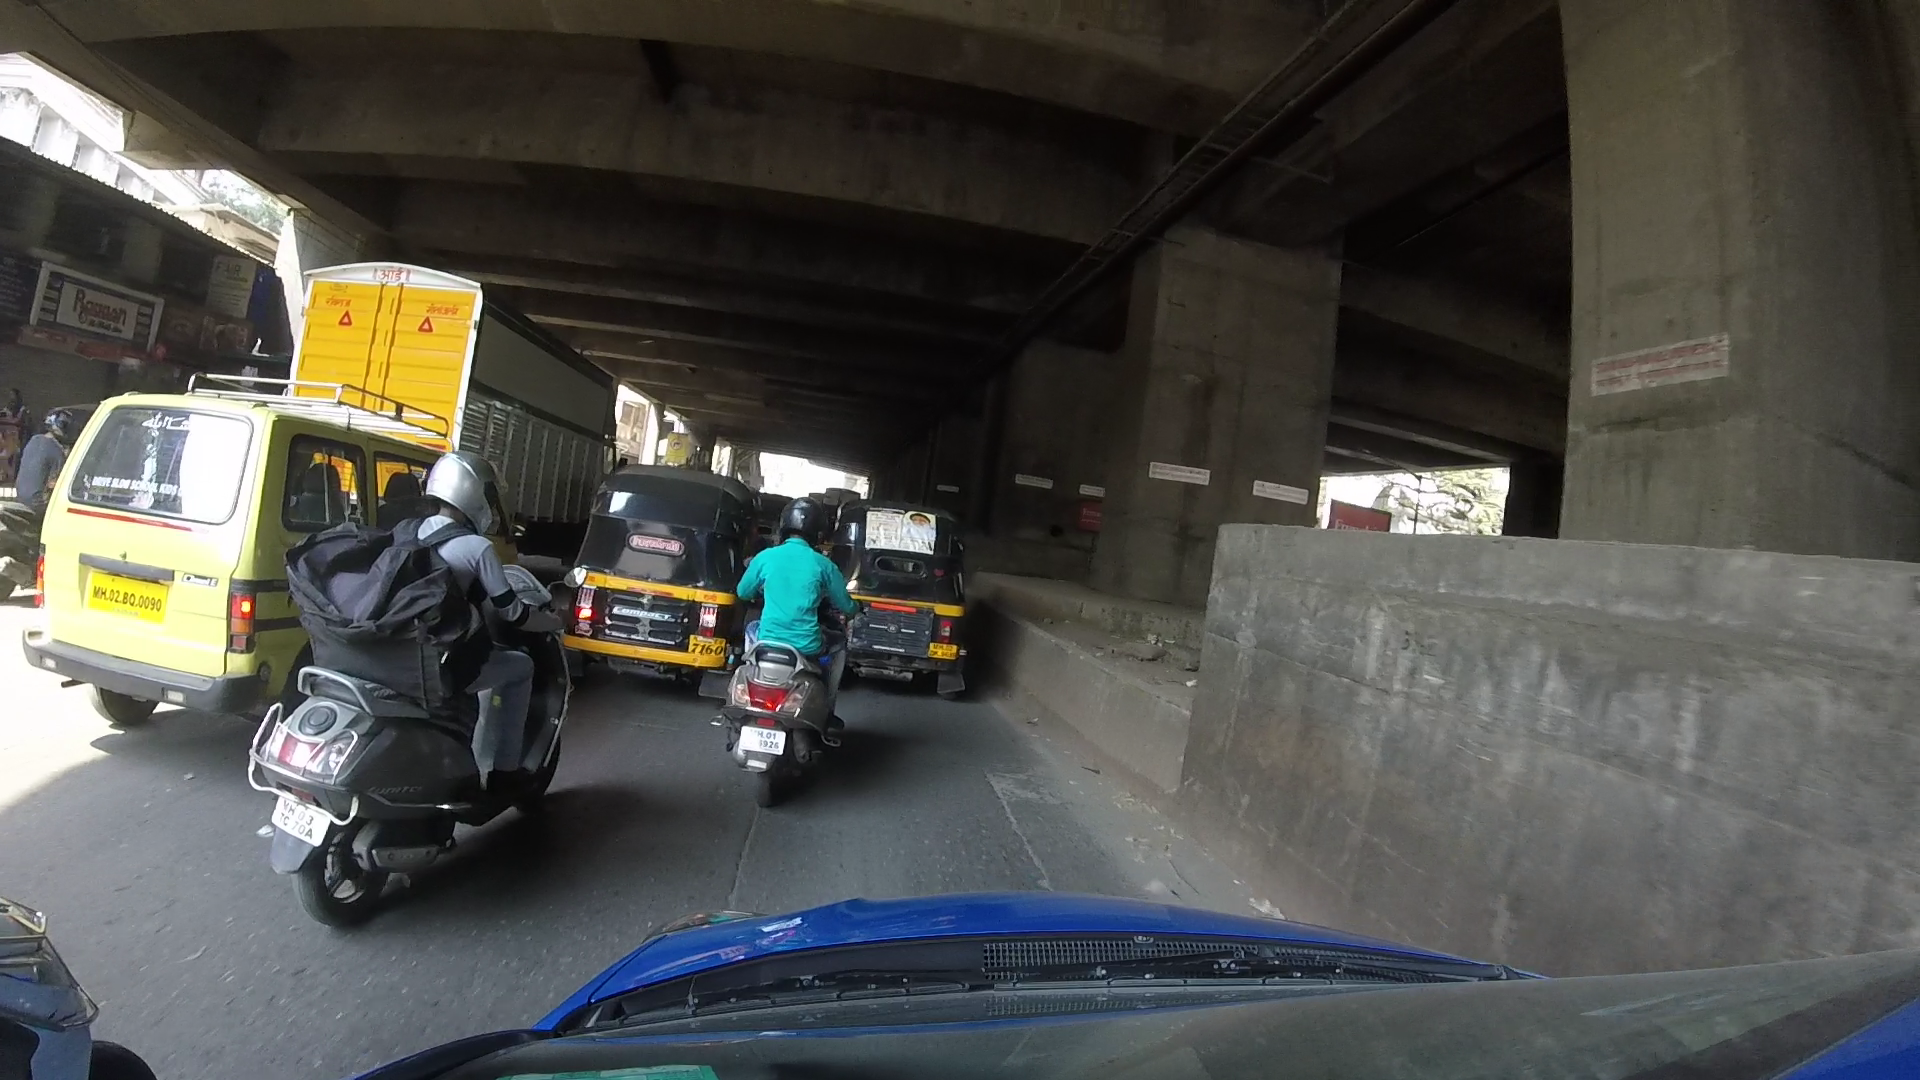bike/scooter: (257, 454, 560, 922), (719, 524, 828, 814)
car: (46, 392, 429, 716)
rickshaw: (572, 460, 785, 676), (852, 549, 975, 698)
truck: (290, 245, 608, 566)
